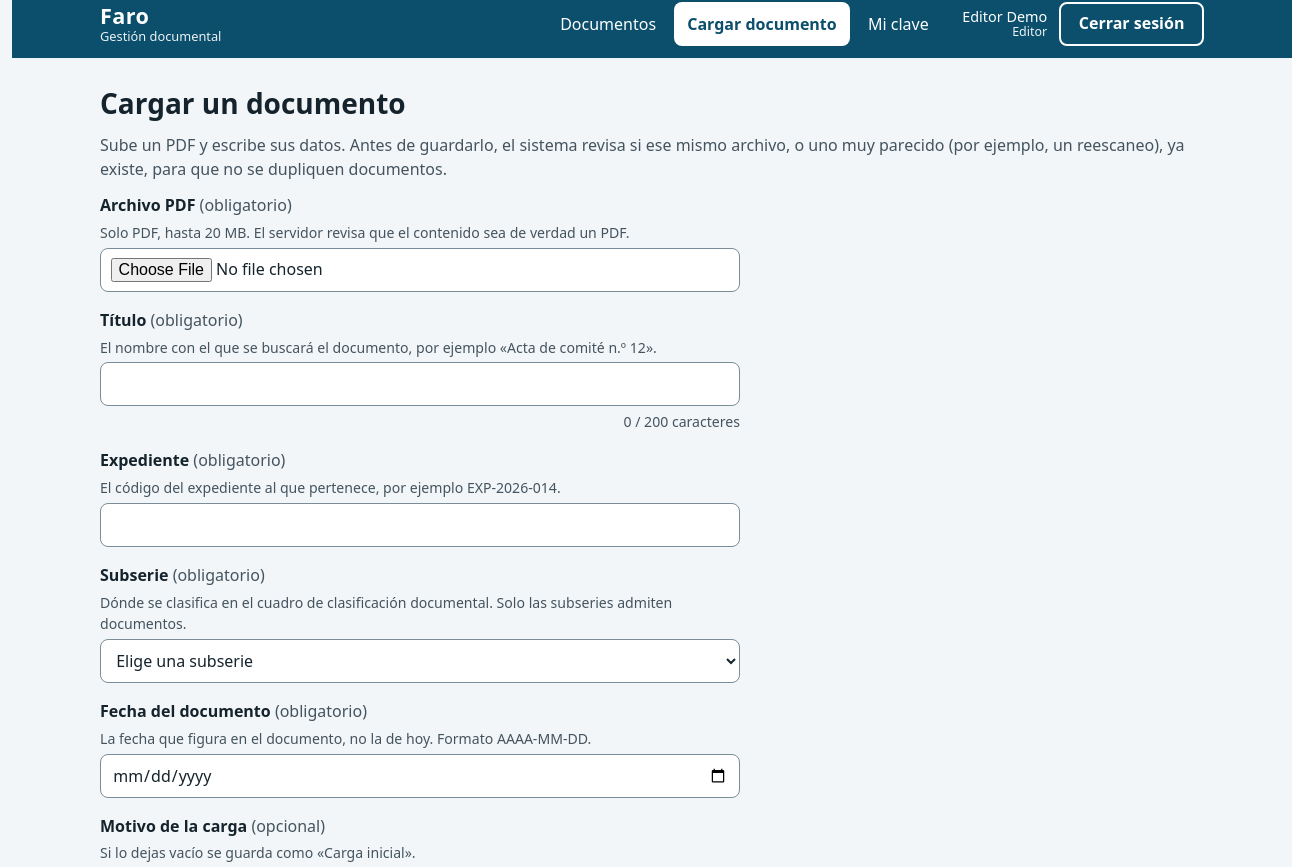
Test case: formulario de carga › los campos de texto cuentan sus caracteres y limitan el largo a lo que admite la API
Expected: the heading "Cargar un documento" is shown, [100,84,406,122]
Type "Acta" into the field labelled "Título (obligatorio)".
click(420, 384); type("Acta")  # box [100,362,740,406]
(page scrolled)
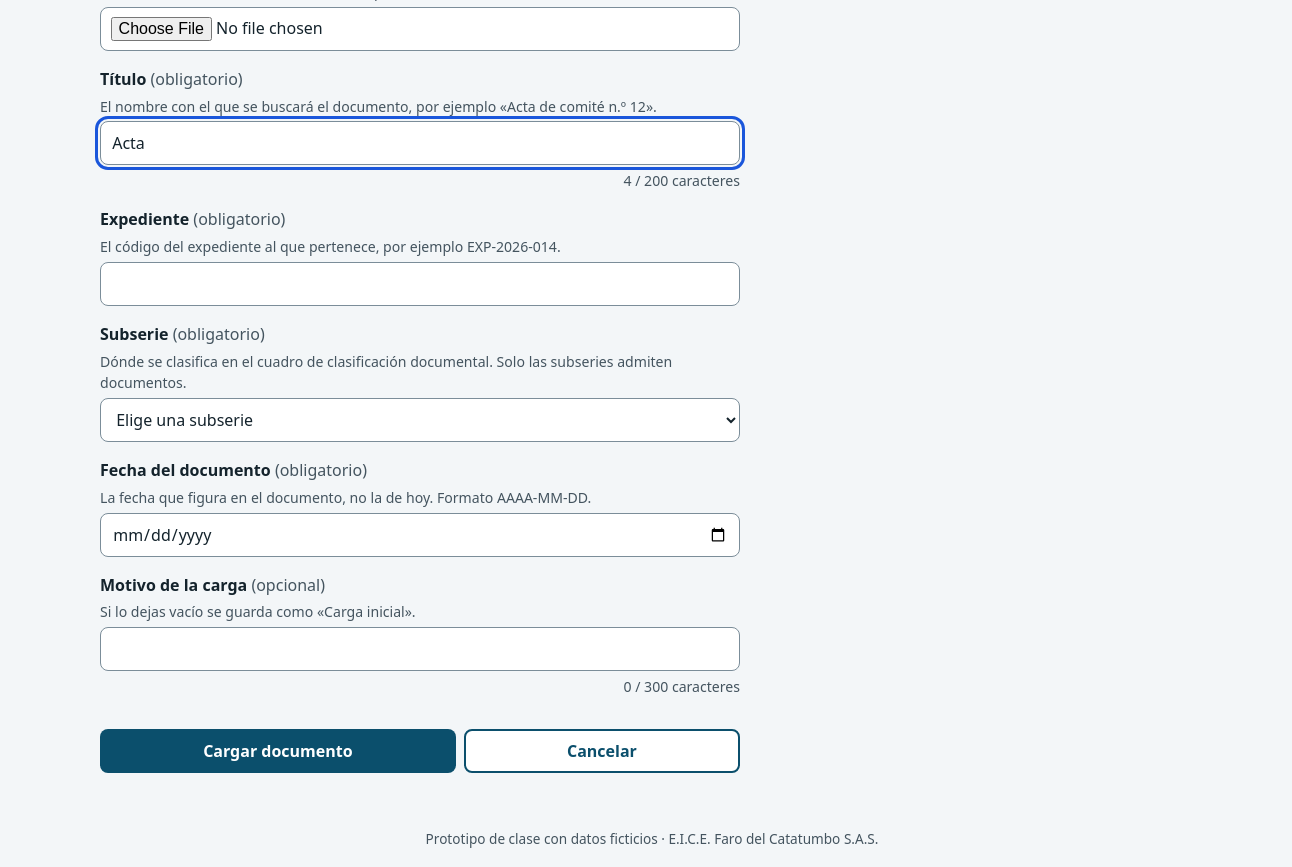
Expected: the text "4 / 200 caracteres" is shown, [624,171,740,190]
